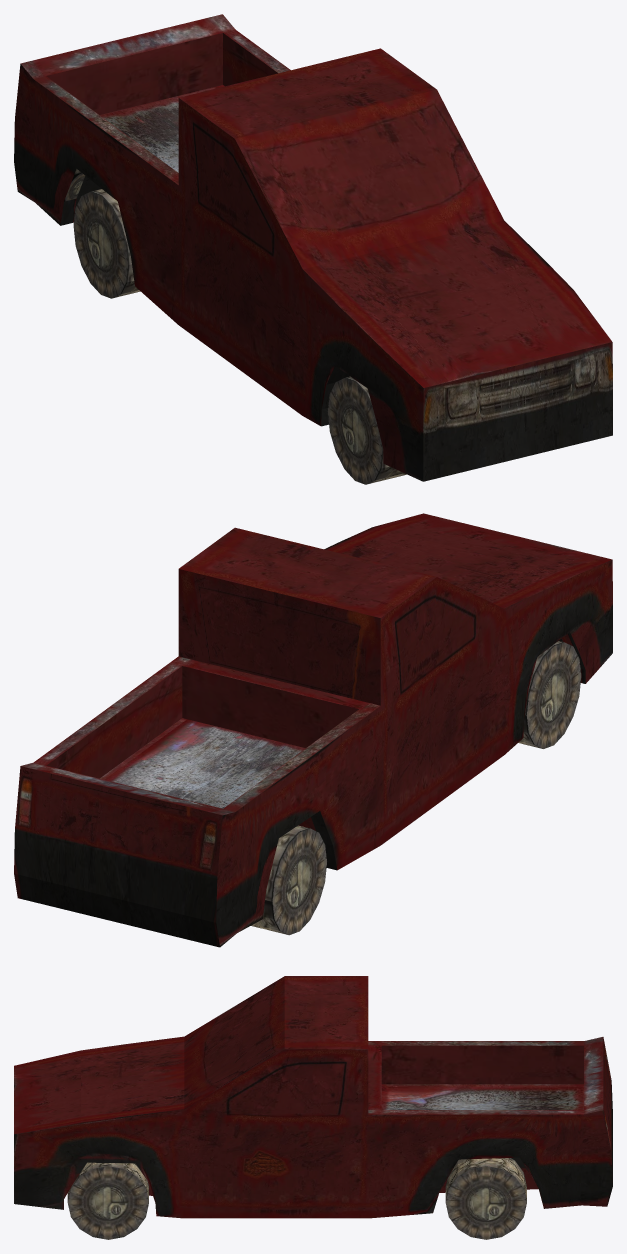
File: car.fbx
3 renders of one model, top to bottom at view 1: azimuth 30°, elevation 25°; view 2: azimuth 150°, elevation 25°; view 3: azimuth 270°, elevation 25°, orthographic. The views are drawn at different scales.
Parts seen in each view (by area): view 1: Cylinder.003; view 2: Cylinder.003; view 3: Cylinder.003.
Part boxes in pixels (left/top/right/bottom): Cylinder.003: left=14, top=14, right=612, bottom=484; Cylinder.003: left=14, top=513, right=612, bottom=947; Cylinder.003: left=14, top=976, right=612, bottom=1239.
Bounding box in the file's own units: 120 × 144 × 412.
